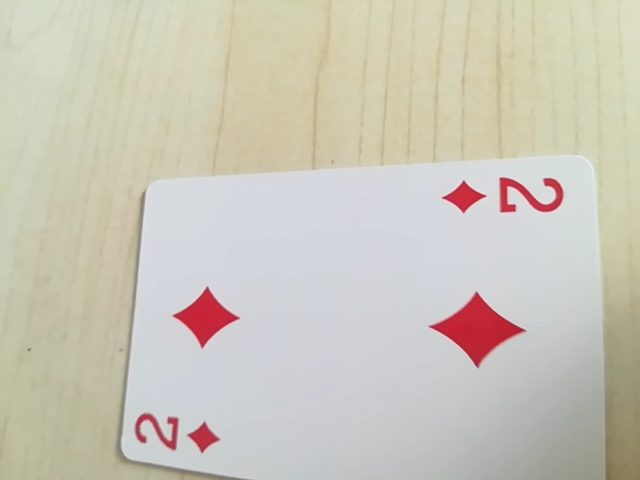fk 2: (441, 169, 570, 225), (125, 401, 235, 462)
